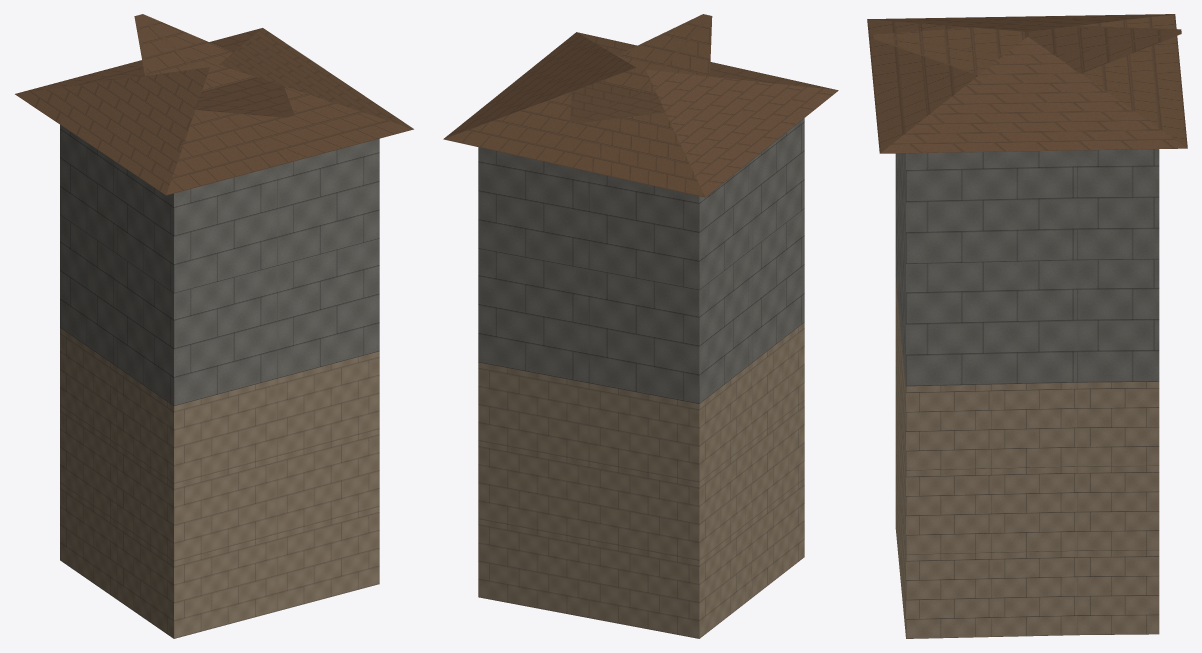
File: bld_c4_6_494.gltf
The picture shows the model from 3 angles, left to right: view 1: azimuth 30°, elevation 25°; view 2: azimuth 150°, elevation 25°; view 3: azimuth 270°, elevation 25°; orthographic projection. The views are drawn at different scales.
Parts seen in each view (by area): view 1: bld_c4_6_494; view 2: bld_c4_6_494; view 3: bld_c4_6_494.
Part boxes in pixels (<box>): bld_c4_6_494: <box>15,14,413,638</box>; bld_c4_6_494: <box>443,14,838,638</box>; bld_c4_6_494: <box>867,14,1187,638</box>.
Bounding box in the file's own units: 6.03 × 11 × 5.85.
Materials: 3 (3 with a texture image).
